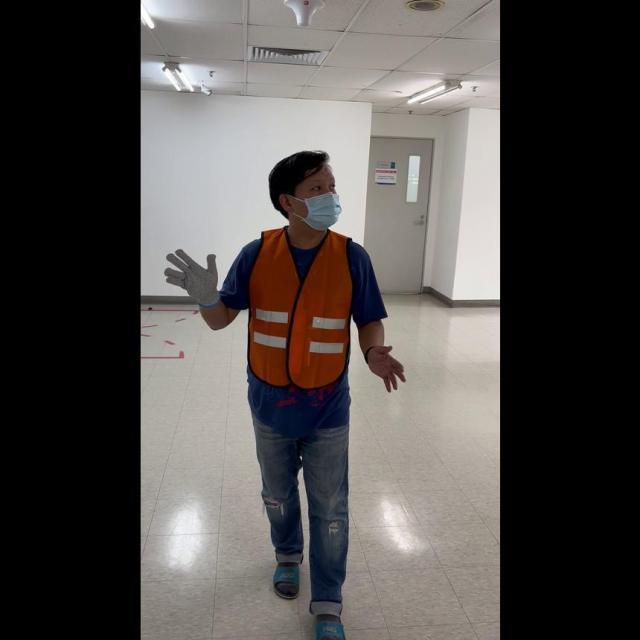bare_hand: (364, 341, 404, 394)
gloved_hand: (162, 244, 223, 307)
